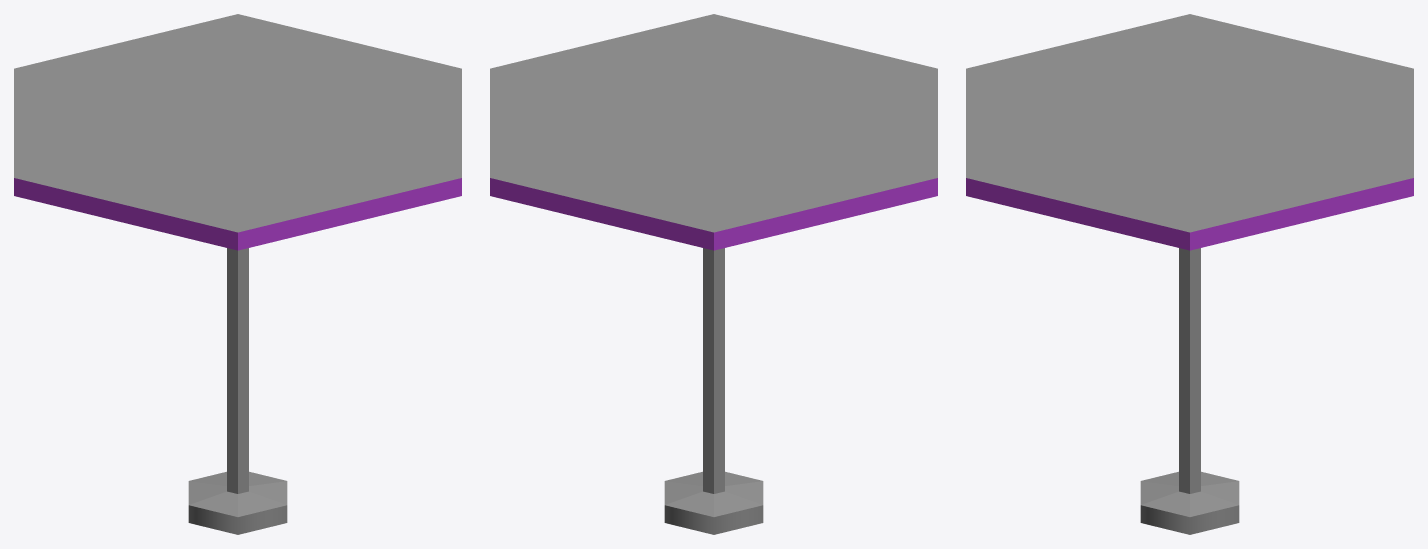
The model's file is table.fbx.
The picture shows the model from 3 angles, left to right: view 1: azimuth 30°, elevation 25°; view 2: azimuth 150°, elevation 25°; view 3: azimuth 270°, elevation 25°; orthographic projection.
Visible parts, largest first — view 1: table; view 2: table; view 3: table.
Boxes of the visible parts, x1,y1,x2,y2 form: table: (14, 14, 461, 534); table: (490, 14, 937, 534); table: (966, 14, 1413, 534).
Size of the model in its own units: 1.37 by 1.14 by 1.19.
